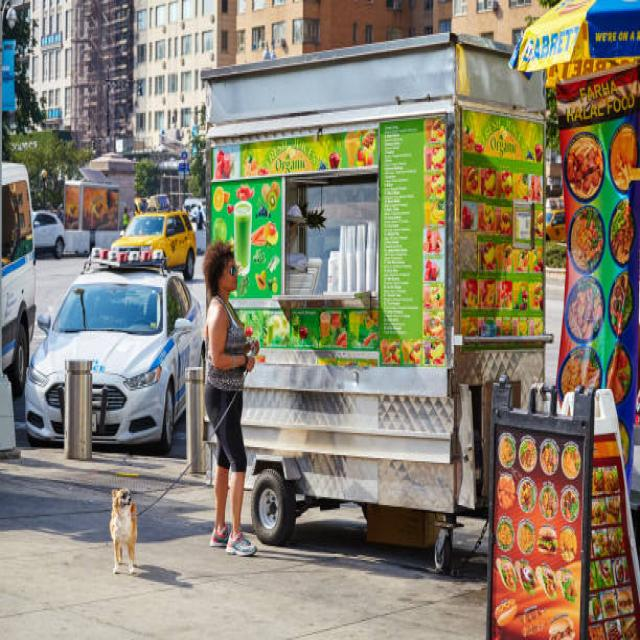Emperan: (179, 8, 564, 593)
